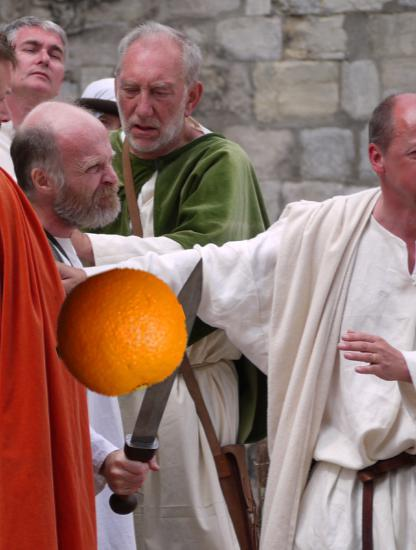Orange: (54, 265, 187, 398)
